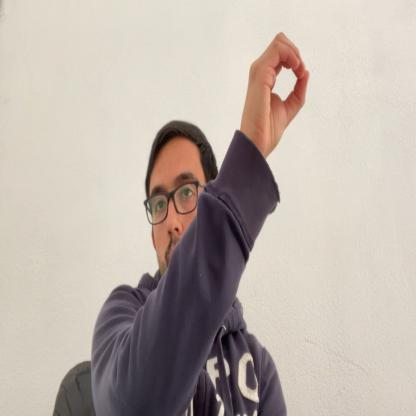O: (242, 31, 310, 153)
